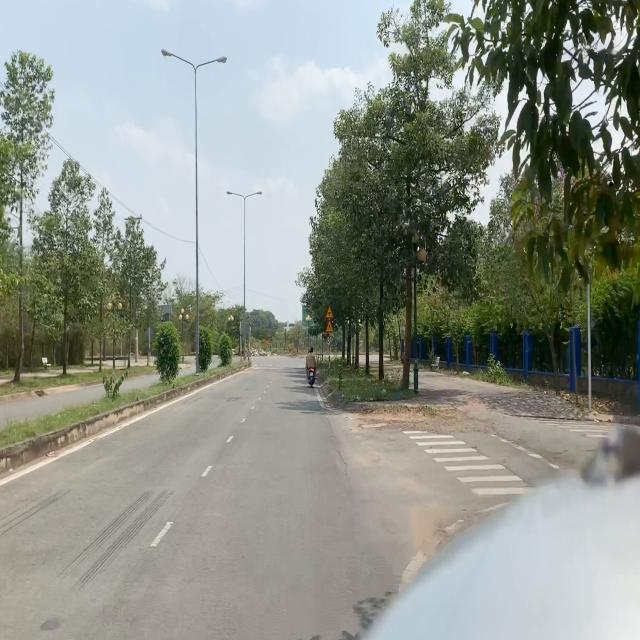Duong giao nhau: (326, 306, 334, 319)
Nguoi di bo cat ngang: (325, 319, 334, 333)
